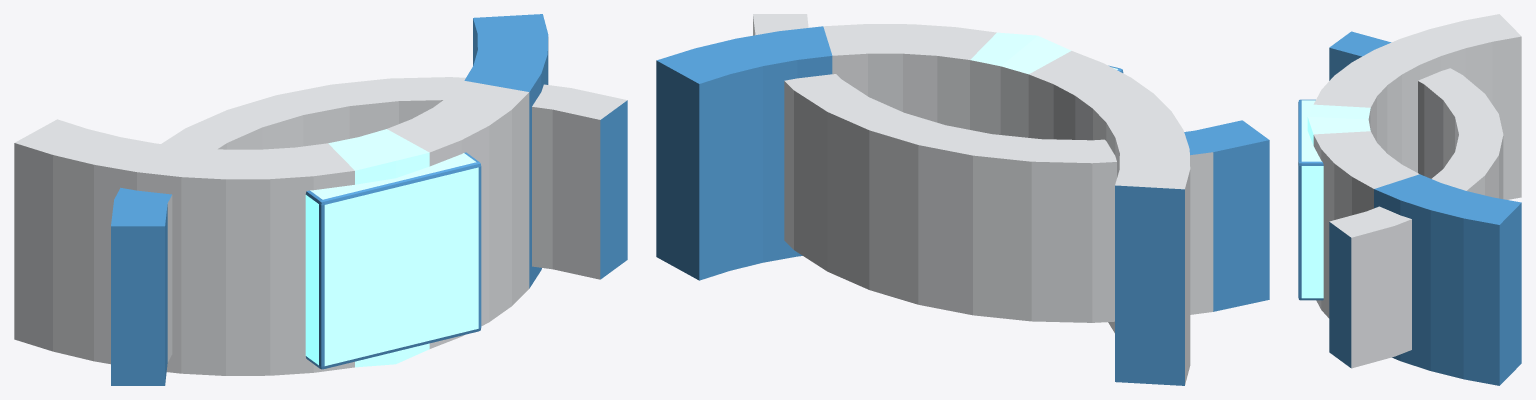
The model's file is waist__bold.glb.
3 renders of one model, left to right at view 1: azimuth 30°, elevation 25°; view 2: azimuth 150°, elevation 25°; view 3: azimuth 270°, elevation 25°, orthographic. The views are drawn at different scales.
Visible parts, largest first — view 1: armor_waist__bold_v001; view 2: armor_waist__bold_v001; view 3: armor_waist__bold_v001.
Boxes of the visible parts, x1=… form: armor_waist__bold_v001: x1=14, y1=14, x2=627, y2=385; armor_waist__bold_v001: x1=656, y1=14, x2=1269, y2=385; armor_waist__bold_v001: x1=1298, y1=14, x2=1521, y2=385.
Size of the model in its own units: 0.45 by 0.1655 by 0.2014.
